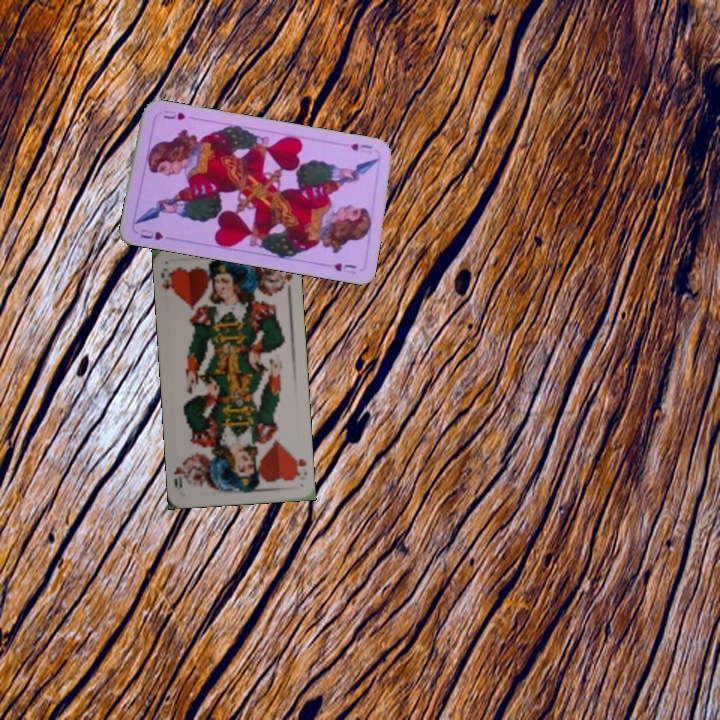HO: (157, 264, 177, 295), (289, 453, 309, 483)
HU: (136, 225, 166, 243), (347, 139, 375, 156)
